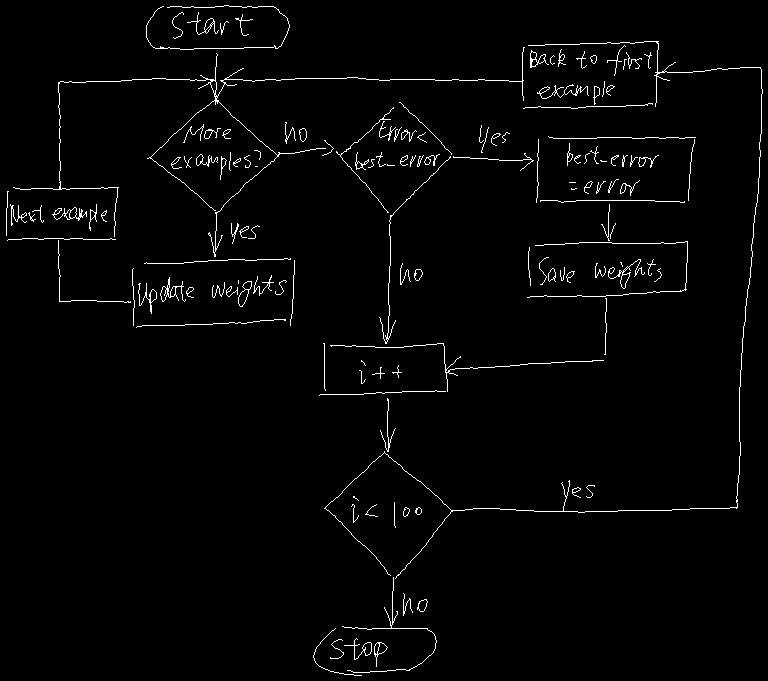arrow: (451, 62, 762, 512), (58, 75, 214, 189), (445, 298, 606, 375), (220, 68, 523, 85), (58, 240, 130, 302), (379, 216, 395, 343), (453, 153, 533, 170), (208, 53, 225, 104), (278, 140, 333, 155), (380, 398, 395, 451), (384, 577, 397, 627), (208, 212, 222, 256), (601, 204, 615, 240)
decision: (324, 451, 452, 578), (147, 100, 280, 213), (336, 102, 451, 216)
process: (132, 258, 294, 327), (536, 136, 695, 202), (522, 41, 658, 108), (527, 241, 687, 297), (319, 343, 447, 395), (6, 187, 118, 240)
terminator: (146, 5, 289, 49), (313, 626, 436, 675)
text: (530, 45, 651, 104), (138, 275, 286, 313), (171, 124, 260, 179), (567, 143, 658, 195), (355, 119, 439, 169), (539, 257, 661, 288), (10, 204, 106, 230), (351, 496, 421, 527), (172, 12, 252, 38), (330, 638, 387, 666), (561, 480, 594, 510), (359, 360, 401, 383), (479, 125, 509, 152), (231, 223, 259, 243), (403, 593, 427, 615), (400, 263, 422, 284), (285, 122, 306, 143)
